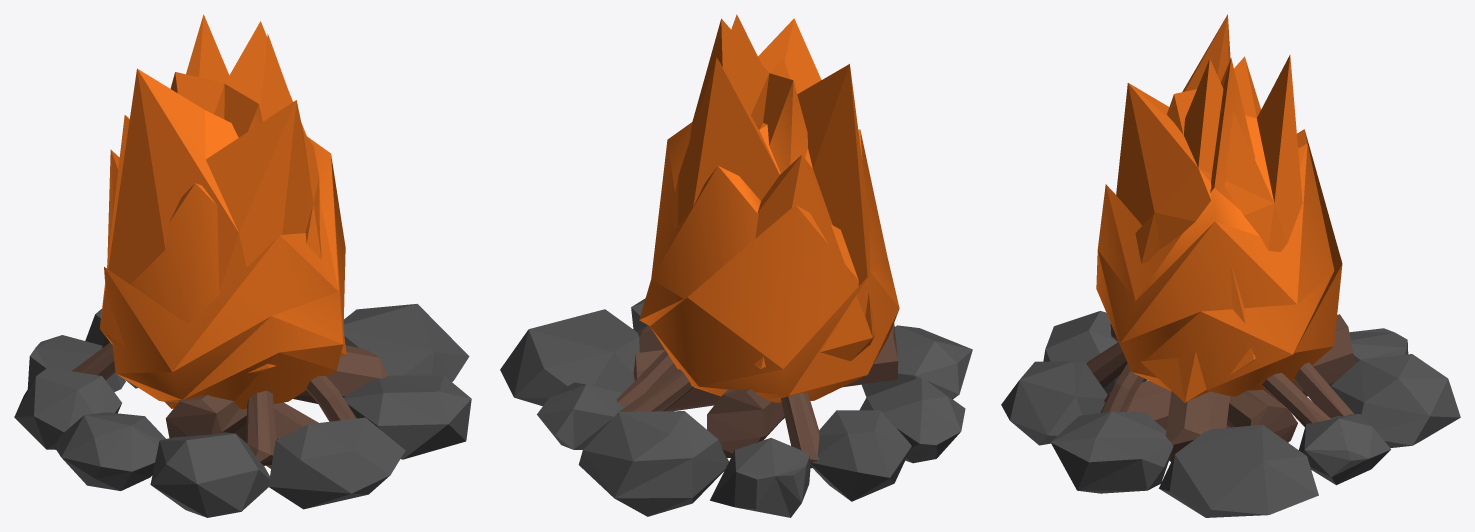
File: campfire.glb
3 renders of one model, left to right at view 1: azimuth 30°, elevation 25°; view 2: azimuth 150°, elevation 25°; view 3: azimuth 270°, elevation 25°, orthographic. The views are drawn at different scales.
Visible parts, largest first — view 1: campfire; view 2: campfire; view 3: campfire.
Boxes of the visible parts, x1,y1,x2,y2 form: campfire: (14,14,471,517); campfire: (500,14,972,517); campfire: (1001,14,1460,517).
Size of the model in its own units: 0.6689 by 0.6469 by 0.6675.
